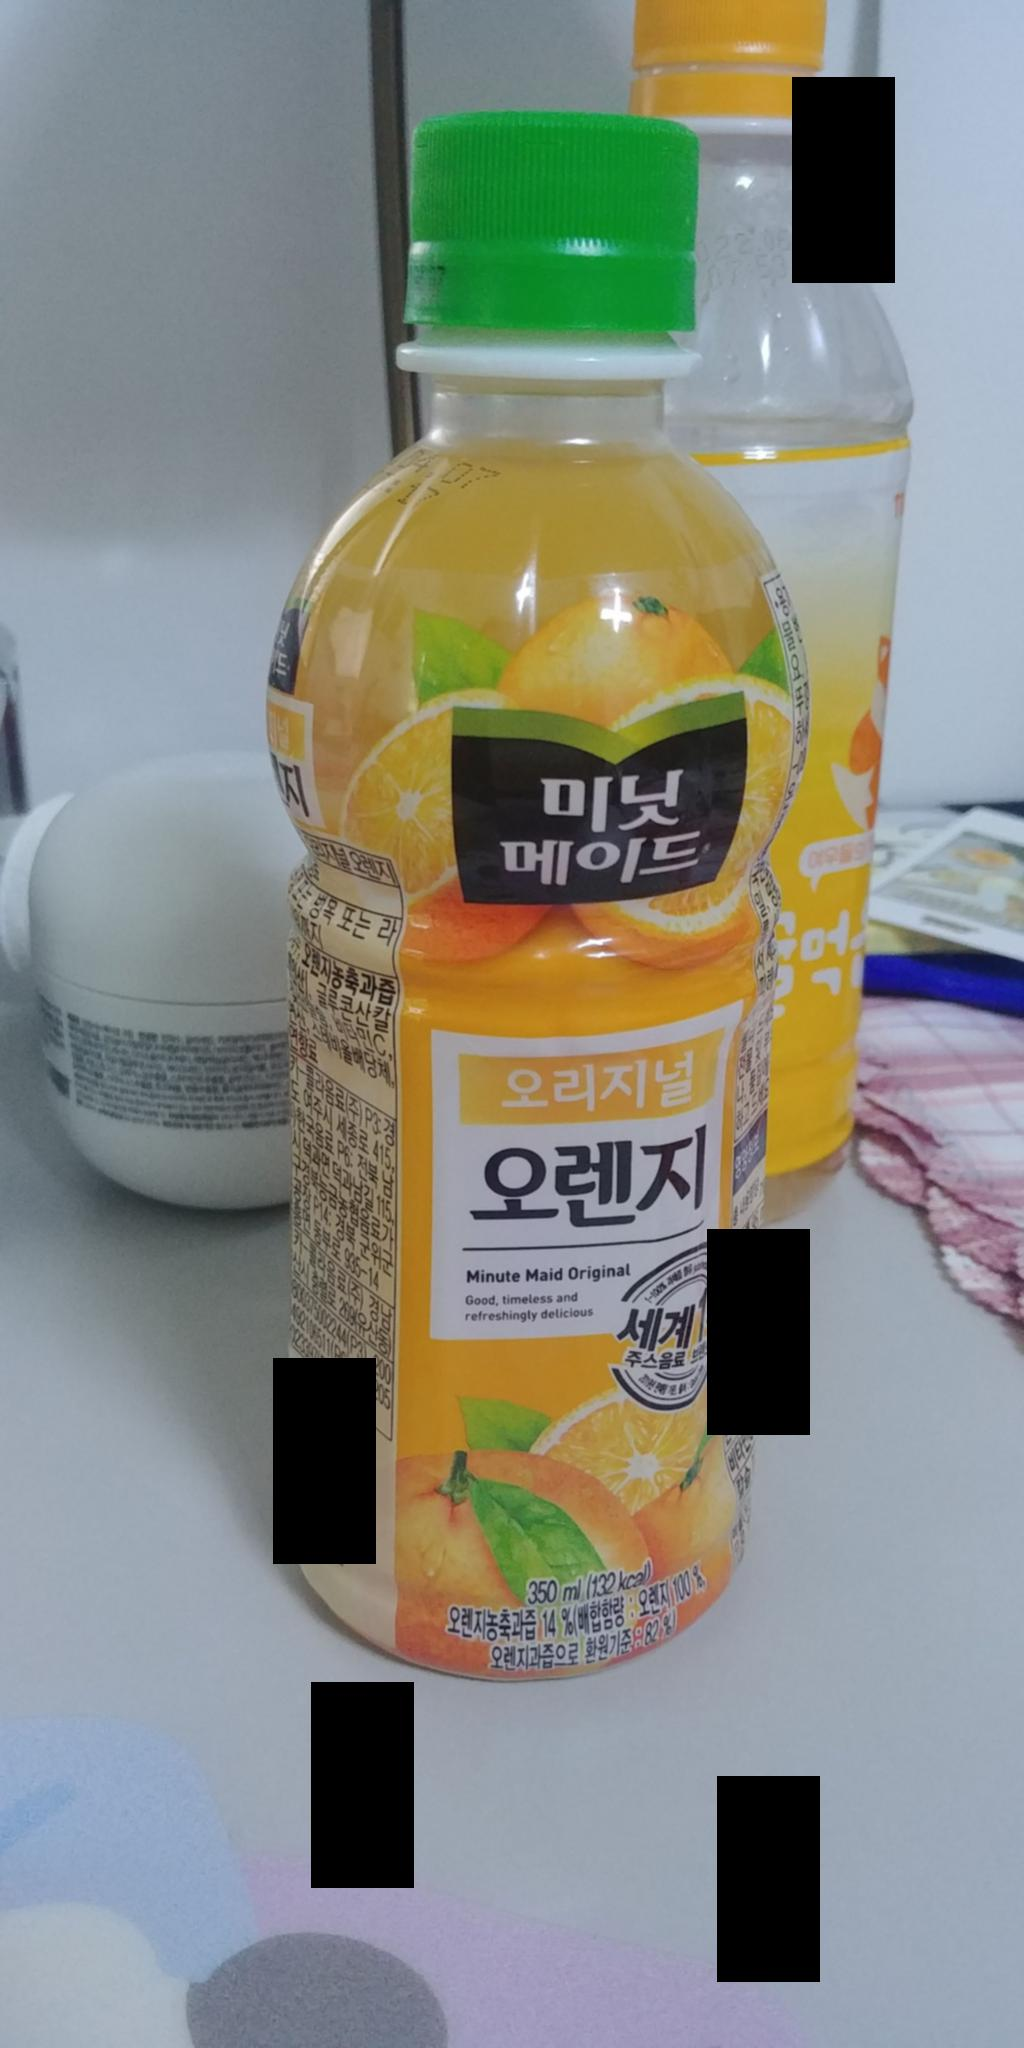minutemaid_org_orange: (256, 98, 771, 1685)
